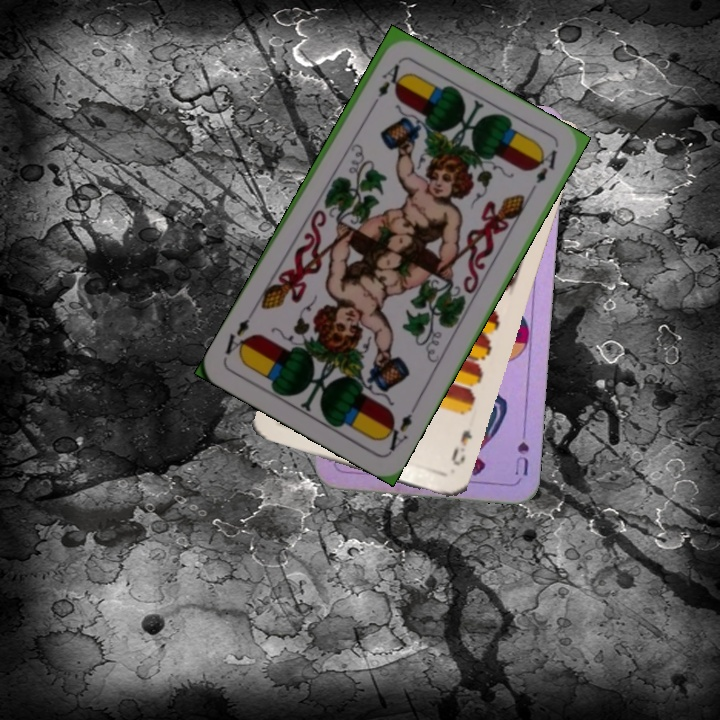E9: (447, 426, 475, 468)
EA: (379, 400, 420, 454), (374, 57, 403, 100)
SU: (511, 420, 531, 478)
